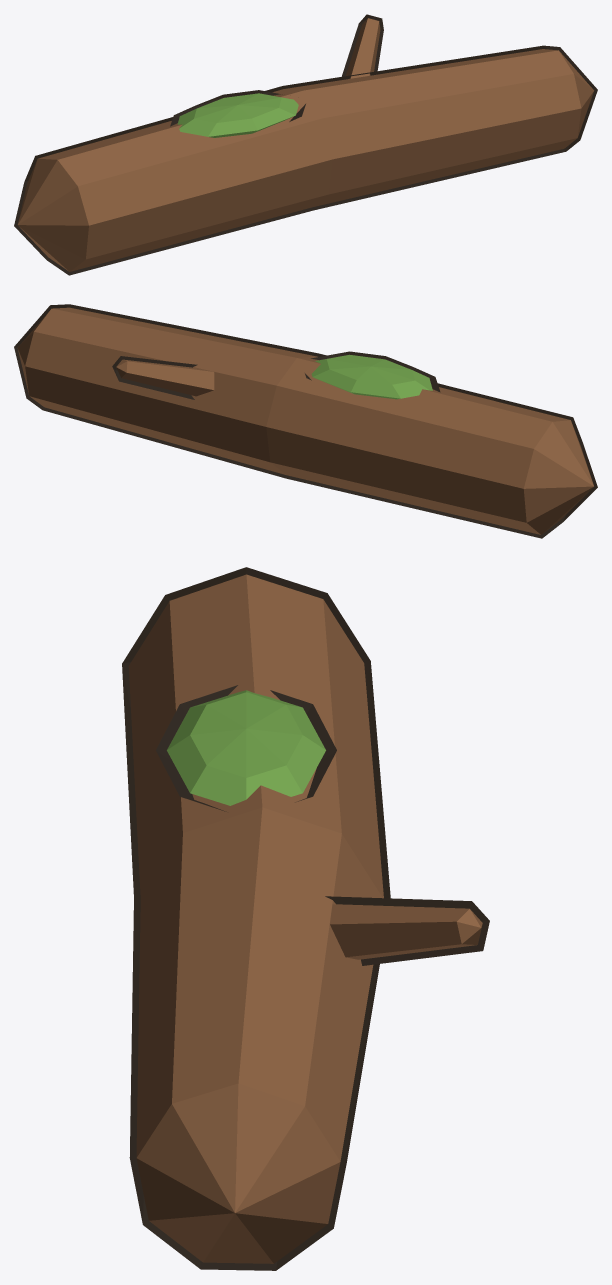
File: fallen_log_01.glb
3 views of the same model, one above another, from view 1: azimuth 30°, elevation 25°; view 2: azimuth 150°, elevation 25°; view 3: azimuth 270°, elevation 25° (orthographic). The views are drawn at different scales.
Parts seen in each view (by area): view 1: OBJ_fallen_log_01; view 2: OBJ_fallen_log_01; view 3: OBJ_fallen_log_01.
Boxes of the visible parts, x1,y1,x2,y2 form: OBJ_fallen_log_01: (14,14,597,275); OBJ_fallen_log_01: (14,304,597,538); OBJ_fallen_log_01: (122,567,489,1270).
Size of the model in its own units: 1.68 by 0.3406 by 0.4615.
